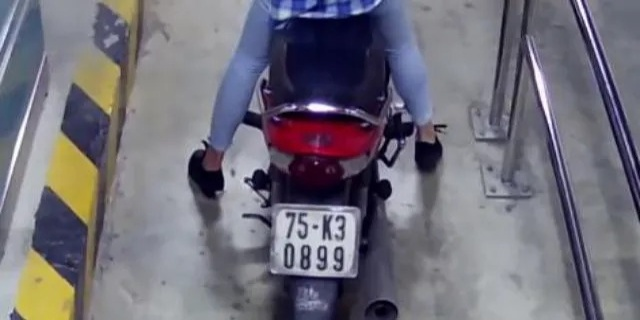bien_so: (271, 202, 360, 280)
